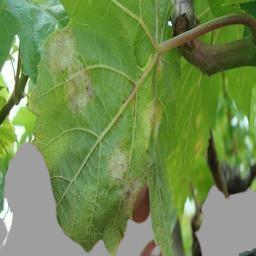Powdery-Mildew: (48, 35, 94, 109), (105, 152, 142, 208), (144, 102, 166, 136), (194, 141, 208, 166)
